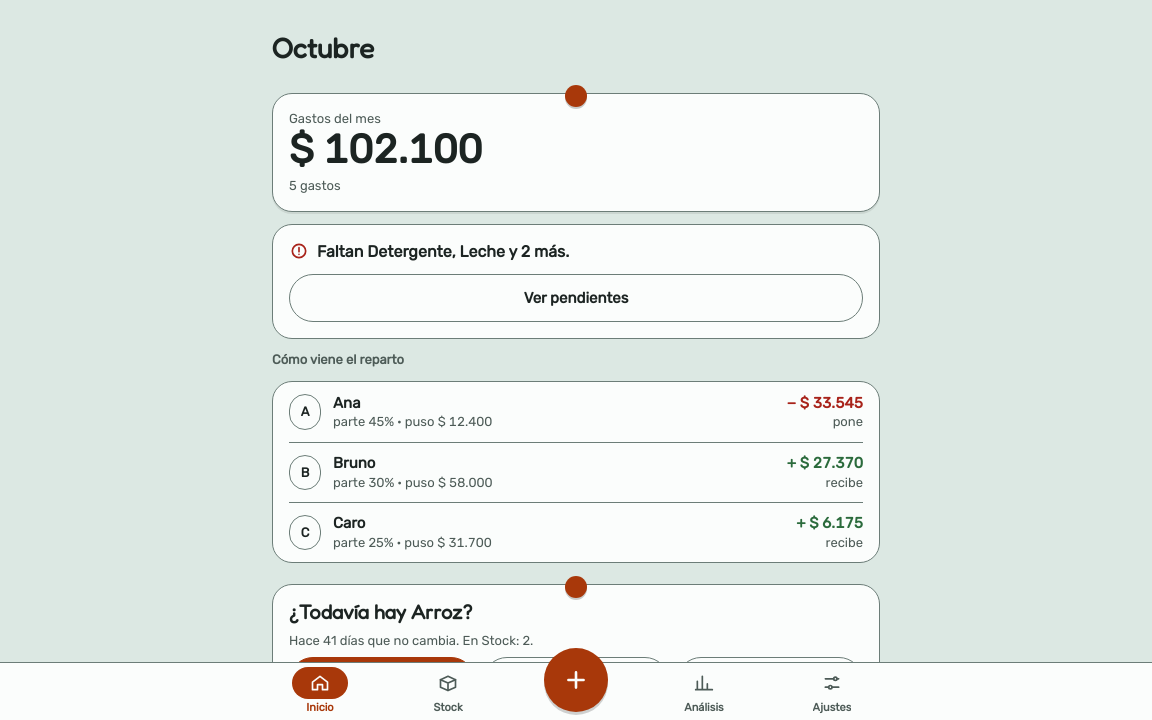
Scenario: la barra lleva a cada pestaña
The width and height of the screenshot is (1152, 720).
Click the link "Stock" at (448, 694), box 433,673 -> 463,714
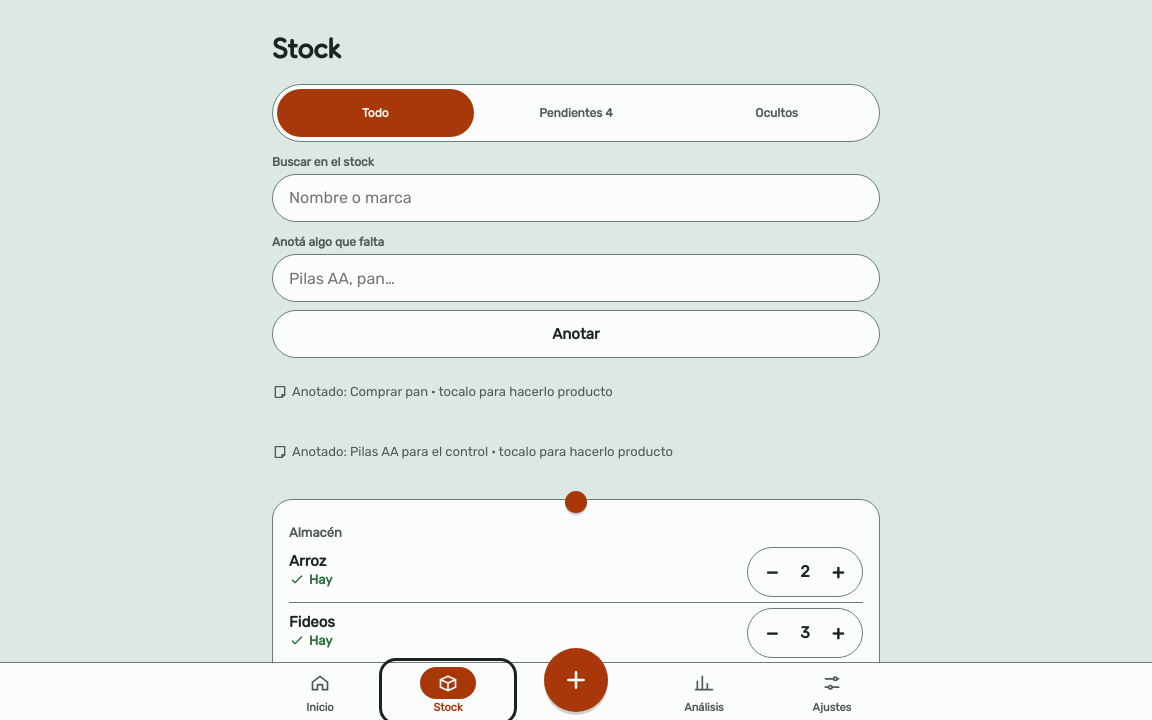
Result: the heading "Stock" is shown at 272,31 -> 341,65
